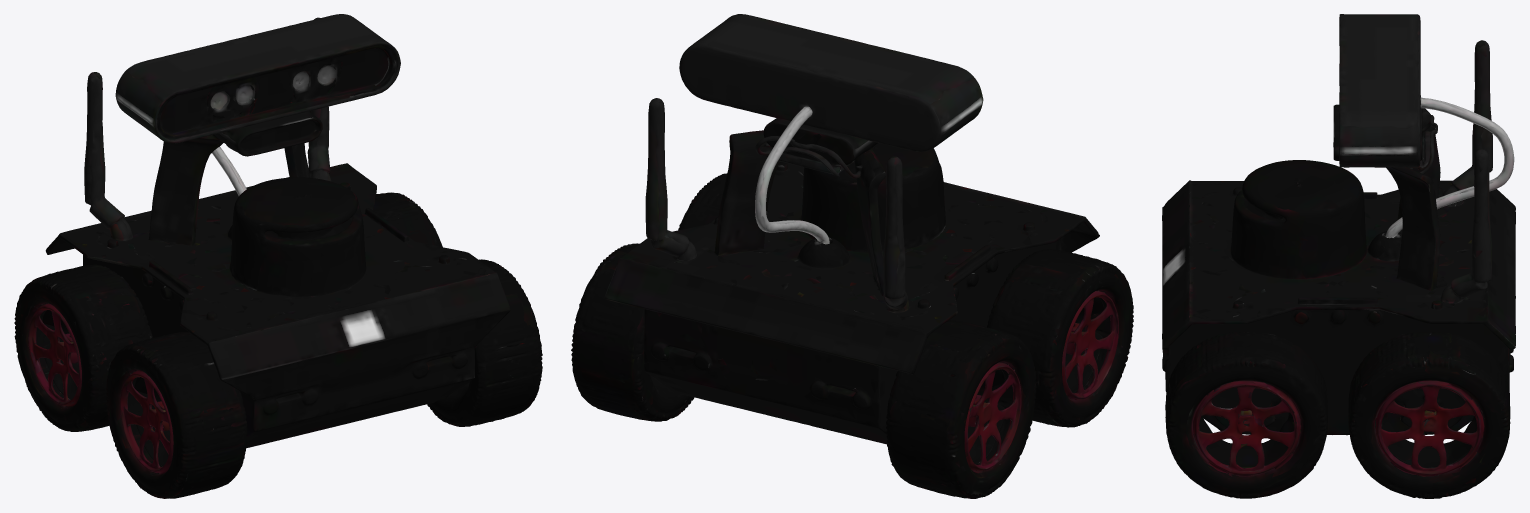
The model's file is rosbot-2-pro.glb.
The picture shows the model from 3 angles, left to right: view 1: azimuth 30°, elevation 25°; view 2: azimuth 150°, elevation 25°; view 3: azimuth 270°, elevation 25°; orthographic projection. The views are drawn at different scales.
Visible parts, largest first — view 1: geometry_0; view 2: geometry_0; view 3: geometry_0.
Part boxes in pixels (x1=…): geometry_0: x1=14, y1=14, x2=542, y2=498; geometry_0: x1=571, y1=14, x2=1133, y2=498; geometry_0: x1=1162, y1=14, x2=1515, y2=498.
Size of the model in its own units: 1 by 0.9296 by 0.8492.
Materials: 1 (1 with a texture image).
